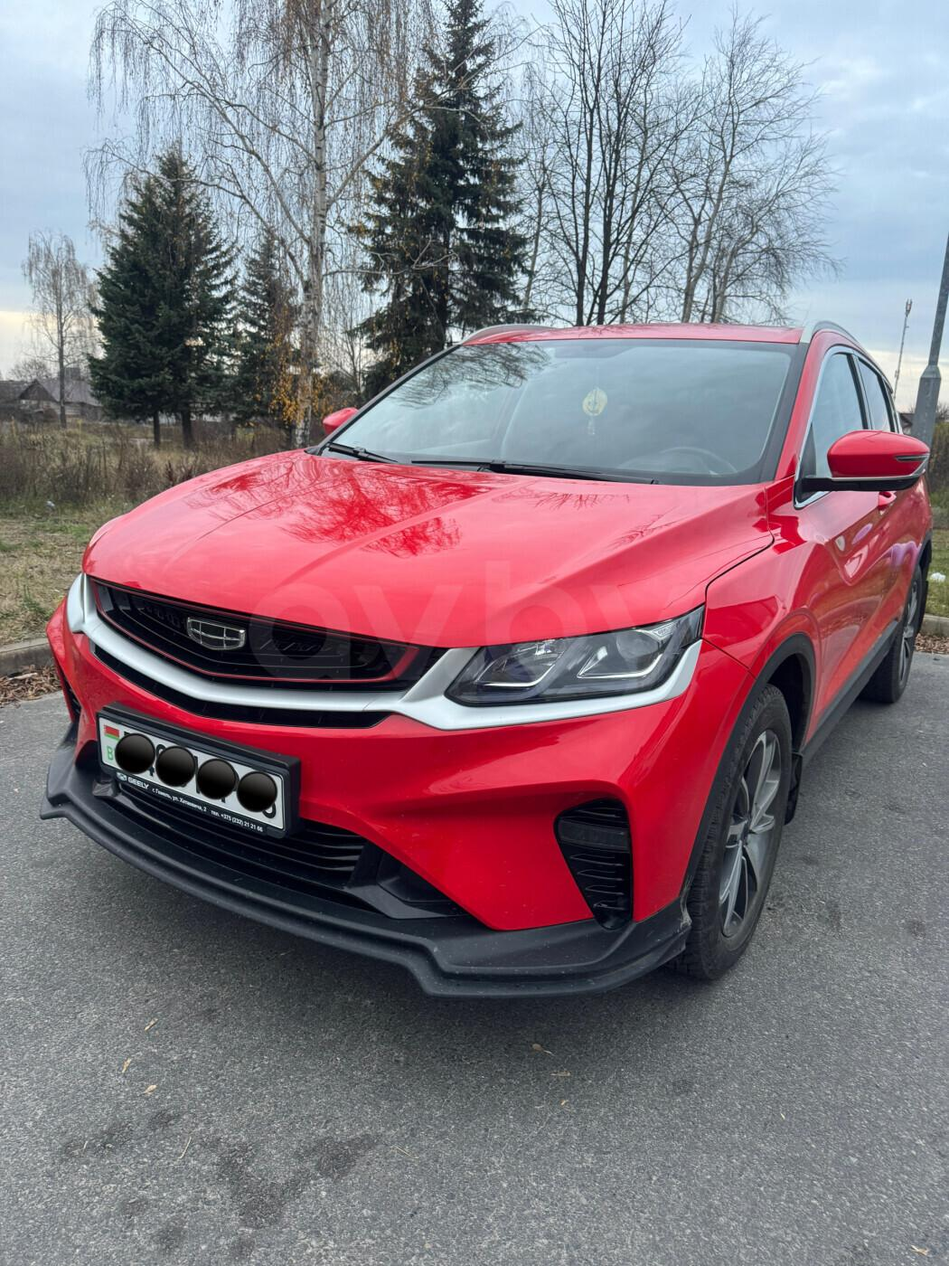Coolray_2019-2023: (42, 307, 936, 1002)
